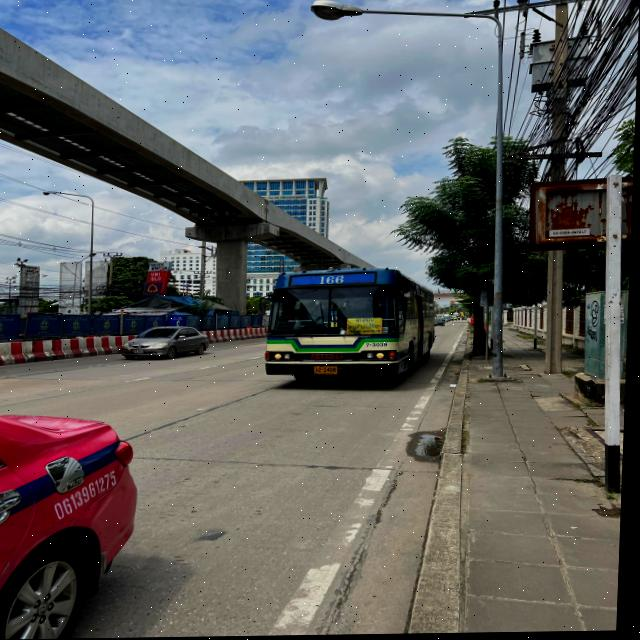BMTA-bus: (262, 265, 442, 387)
Bus-Line-Number: (320, 276, 347, 286)
Destination-Sign-Normal-Expressway: (348, 317, 386, 336)
